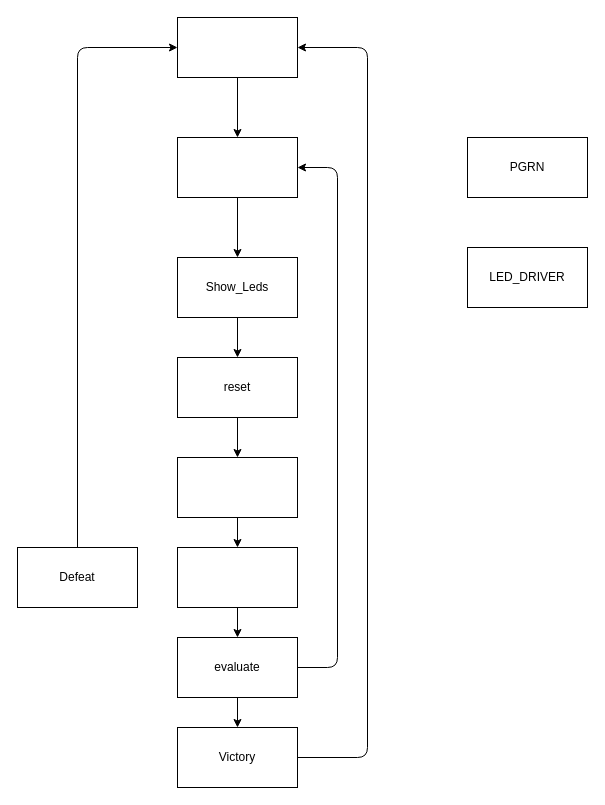
Image size: 605x805. Some labels were removed from this diagram. The centre of each missing label's shape, as x and y in pixels:
"compare" belongs at pixel 237 577.
"Generate" belongs at pixel 237 167.
"get_player" belongs at pixel 237 487.
"IDLE" belongs at pixel 237 47.
